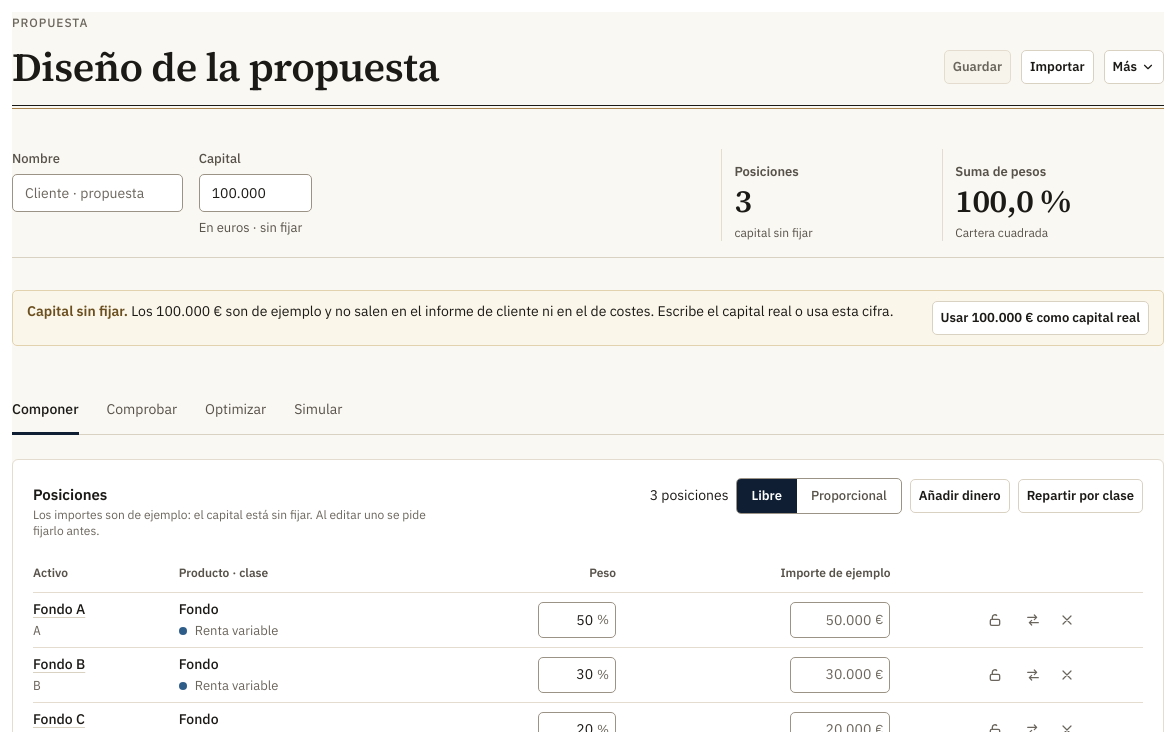
hallazgo 47: quitar una posición deja «Deshacer» unos segundos › vuelve a su sitio, con su candado
Later steps or results of the test are not shown.
Click the button named "Bloquear el peso de Fondo B". click: (995, 675)
box: x1=978 y1=658 x2=1012 y2=692
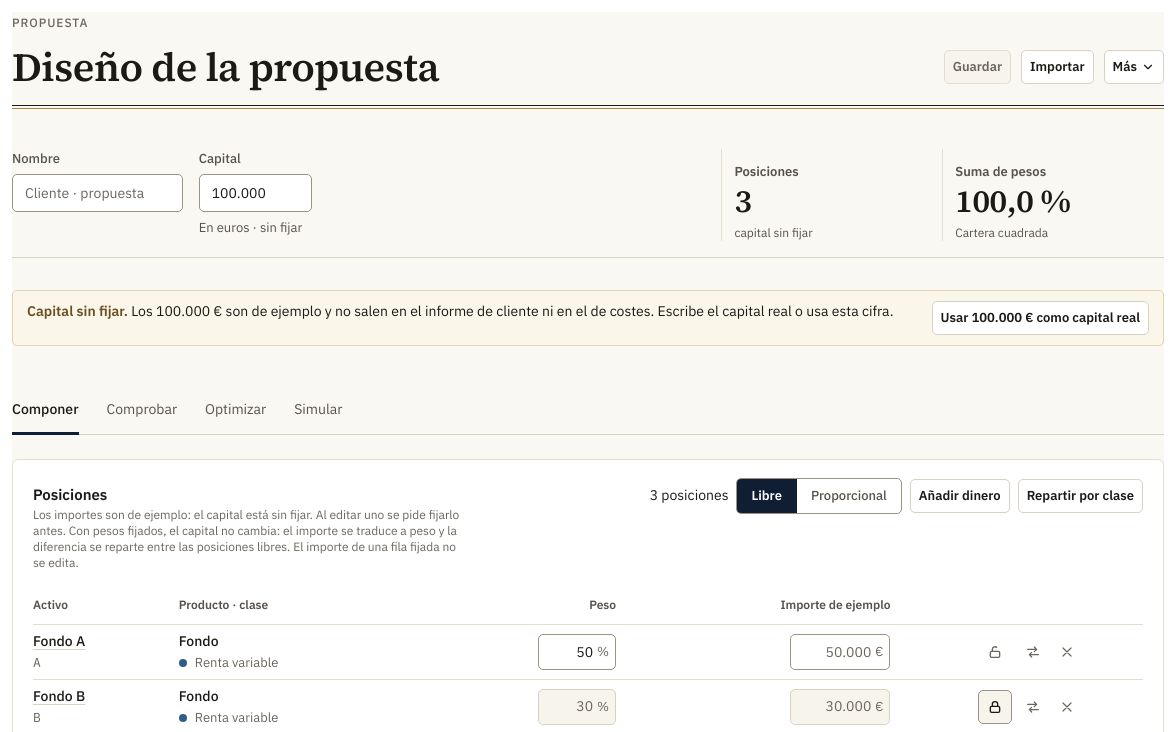
Click the button named "Quitar Fondo B". click: (1067, 707)
box: x1=1050 y1=690 x2=1084 y2=724
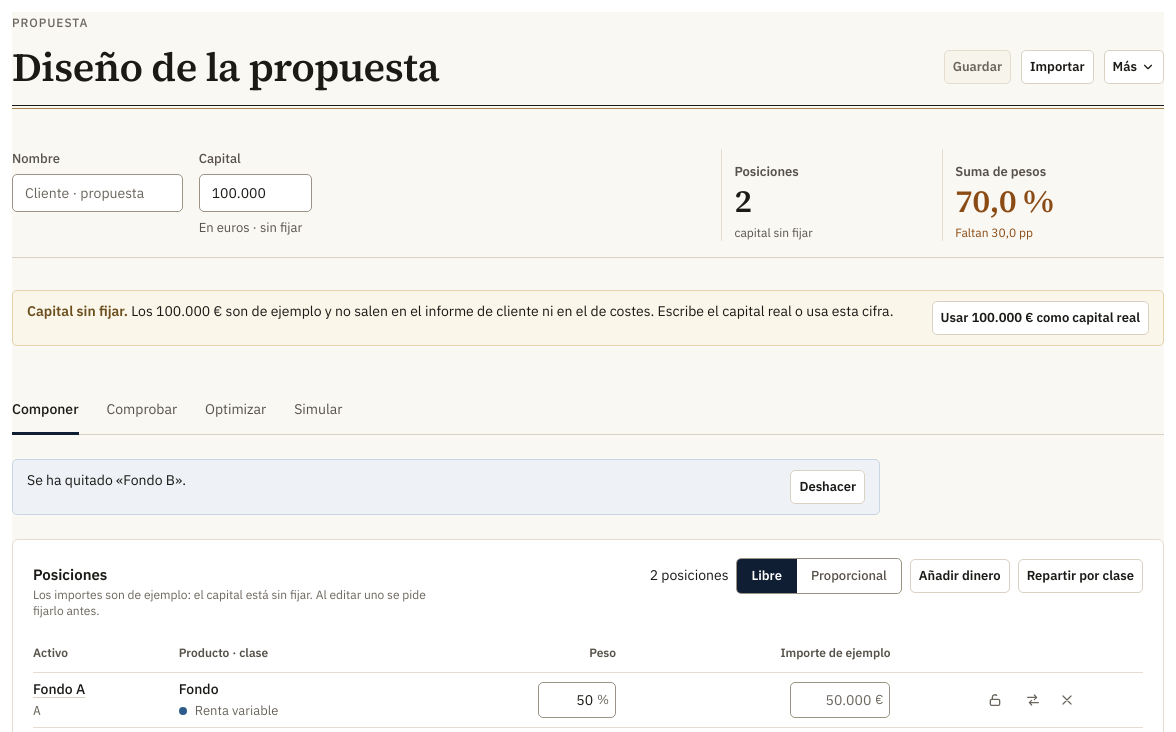
Expected: the text "Se ha quitado «Fondo B»." is shown, x1=26 y1=470 x2=186 y2=489
